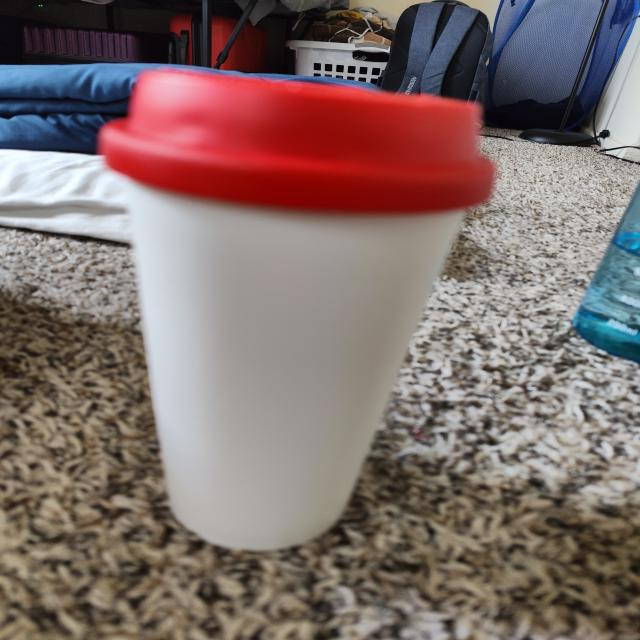mug: (96, 68, 474, 544)
